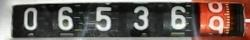digits: (204, 3, 226, 39), (132, 5, 149, 30), (95, 6, 111, 31), (58, 5, 73, 30), (22, 7, 38, 30), (170, 6, 186, 29)
